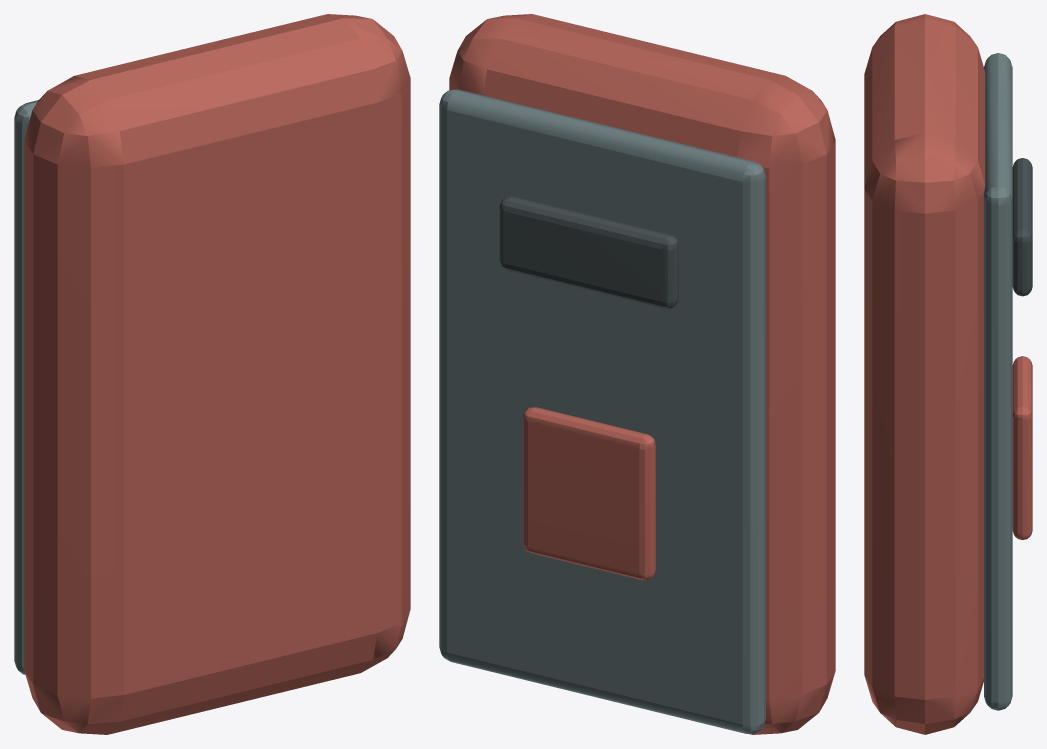
The model's file is kit_bulwark.glb.
The picture shows the model from 3 angles, left to right: view 1: azimuth 30°, elevation 25°; view 2: azimuth 150°, elevation 25°; view 3: azimuth 270°, elevation 25°; orthographic projection. The views are drawn at different scales.
Parts seen in each view (by area): view 1: ShieldBody, ShieldRim; view 2: ShieldRim, ShieldBody, ShieldBadge, ShieldViewport; view 3: ShieldBody, ShieldRim, ShieldBadge, ShieldViewport.
Part boxes in pixels (x1,y1,x2,y2): ShieldBody: [24, 14, 410, 734]; ShieldRim: [14, 100, 38, 674]; ShieldRim: [439, 89, 765, 733]; ShieldBody: [449, 14, 835, 734]; ShieldBadge: [522, 407, 655, 580]; ShieldViewport: [499, 196, 678, 308]; ShieldBody: [864, 14, 985, 734]; ShieldRim: [984, 53, 1012, 710]; ShieldBadge: [1012, 356, 1032, 540]; ShieldViewport: [1012, 158, 1032, 296].
Size of the model in its own units: 0.48 by 0.81 by 0.2075.
